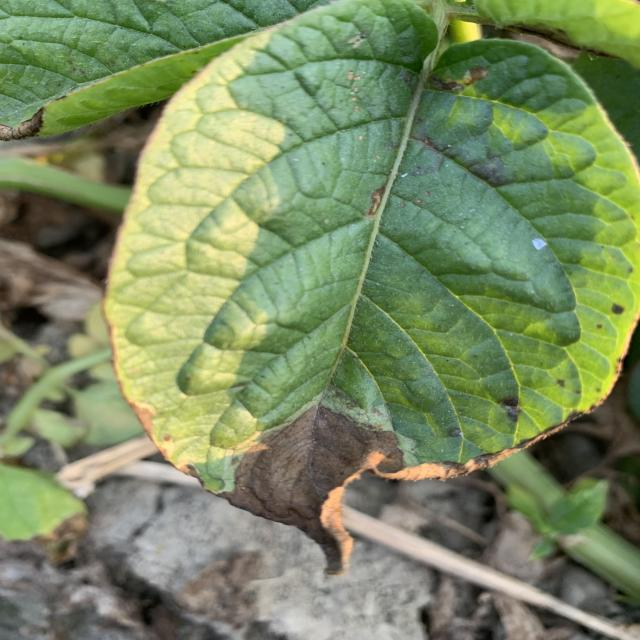lateblight: (308, 456, 310, 459)
